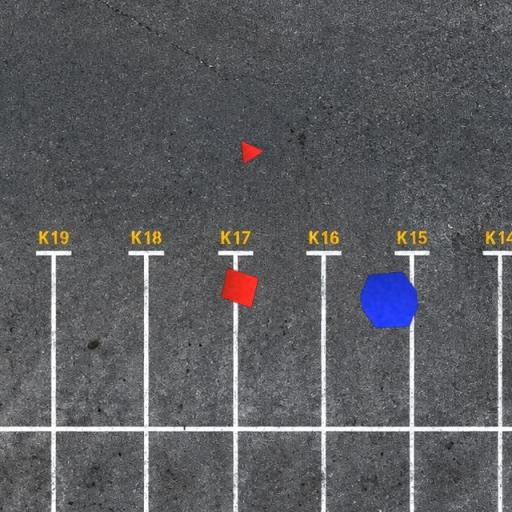RED_SQUARE: (221, 267, 259, 309)
